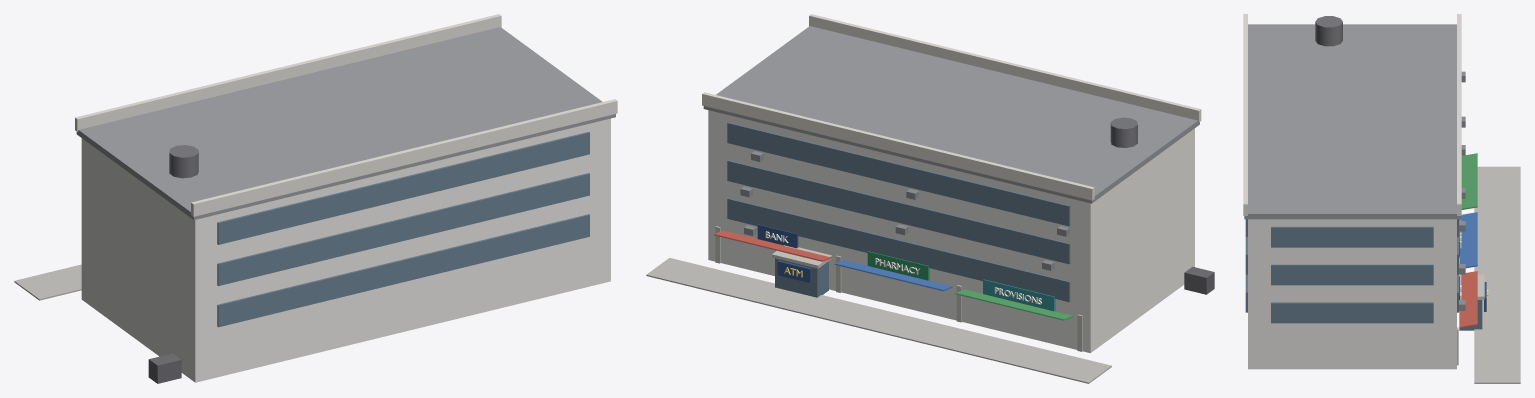
The model's file is wuse_block_1.glb.
3 renders of one model, left to right at view 1: azimuth 30°, elevation 25°; view 2: azimuth 150°, elevation 25°; view 3: azimuth 270°, elevation 25°, orthographic. The views are drawn at different scales.
Parts seen in each view (by area): view 1: BLD_wuse_block_1; view 2: BLD_wuse_block_1; view 3: BLD_wuse_block_1.
Boxes of the visible parts, box(x1,y1,x2,y2) form: BLD_wuse_block_1: box(14, 14, 617, 383); BLD_wuse_block_1: box(646, 14, 1214, 383); BLD_wuse_block_1: box(1243, 14, 1520, 383).
Size of the model in its own units: 44 by 16.7 by 23.9.
